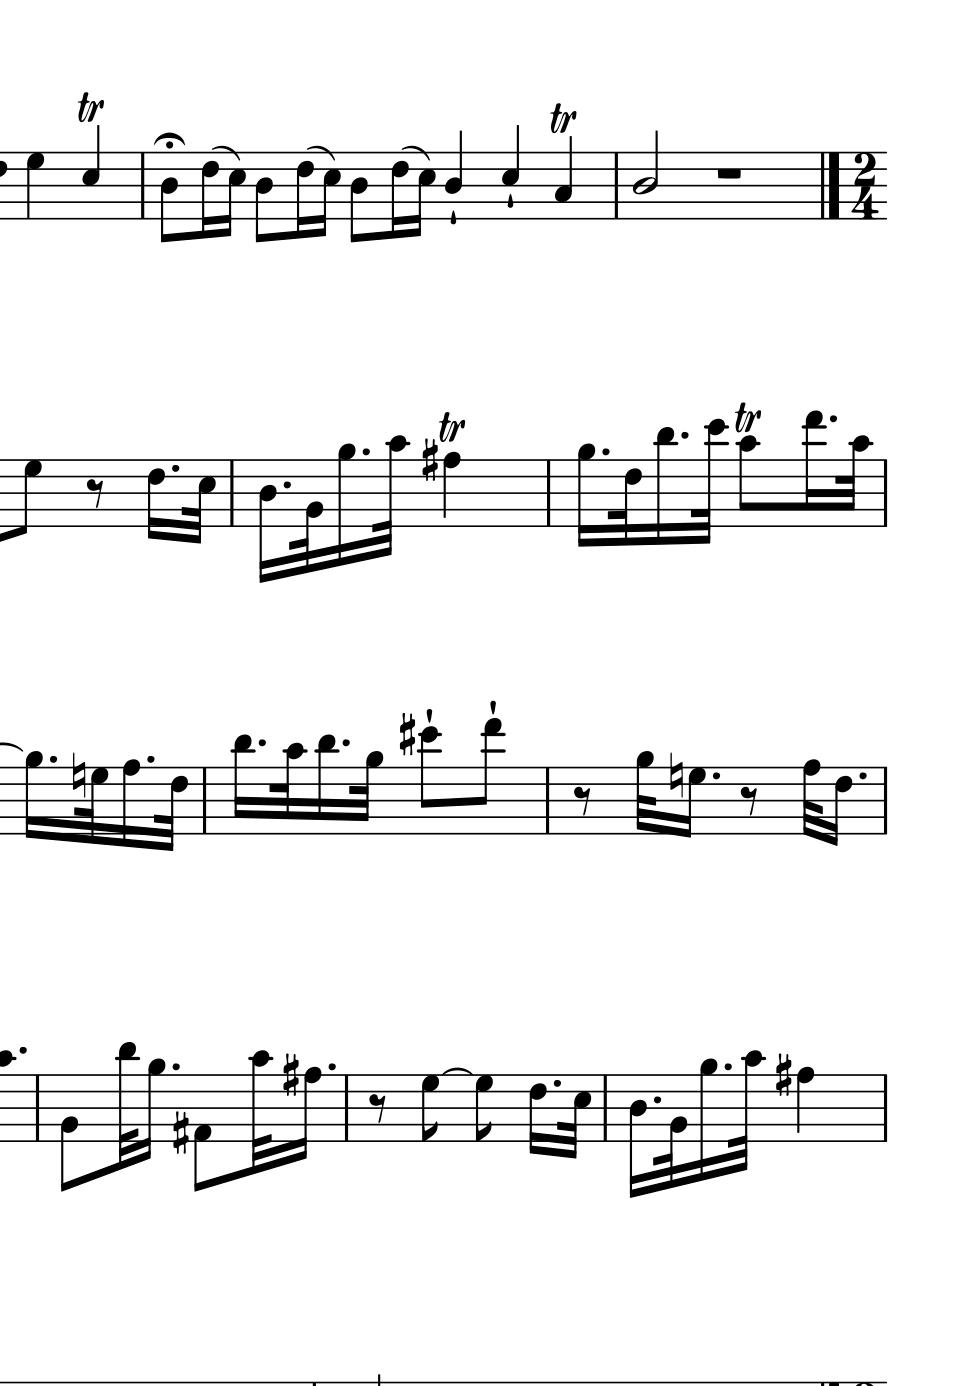16_11: (653, 424, 676, 546), (229, 732, 253, 836), (313, 733, 336, 836)
16_13: (803, 408, 827, 530)
16_4: (626, 1072, 647, 1200), (257, 457, 278, 584)
16_5: (220, 151, 246, 238), (315, 151, 342, 238), (412, 150, 437, 238)
16_6: (828, 766, 853, 847), (389, 150, 409, 239), (145, 458, 167, 542), (294, 151, 314, 239), (199, 150, 218, 240), (527, 1073, 547, 1156)
16_7: (678, 764, 707, 841)
16_8: (292, 1067, 322, 1163), (119, 759, 141, 850)
16_9: (137, 1057, 167, 1166), (335, 440, 358, 569), (697, 1058, 719, 1180), (575, 441, 597, 549), (24, 749, 43, 840)
2: (851, 151, 880, 186)
2_4: (631, 128, 658, 220)
32_10: (729, 1047, 765, 1174), (373, 432, 408, 559), (270, 740, 305, 836), (248, 1049, 274, 1174), (841, 433, 873, 530)
32_11: (116, 1040, 138, 1172)
32_12: (692, 417, 728, 545)
32_2: (290, 457, 323, 577), (657, 1073, 687, 1191)
32_5: (182, 459, 218, 545), (559, 1073, 593, 1161)
32_6: (608, 458, 642, 547), (158, 764, 189, 853)
32_7: (77, 766, 108, 847)
32_8: (802, 756, 824, 840)
32_9: (352, 748, 383, 839), (633, 751, 655, 834)
4: (851, 186, 881, 220)
4_3: (552, 135, 573, 220)
4_4: (443, 131, 463, 225)
4_5: (500, 124, 520, 218)
4_7: (24, 150, 46, 221)
4_8: (441, 450, 461, 528), (794, 1066, 813, 1143)
8_1: (191, 1073, 212, 1192)
8_10: (735, 435, 758, 530)
8_12: (417, 724, 443, 835)
8_13: (473, 717, 505, 835)
8_2: (58, 1072, 78, 1194)
8_4: (157, 150, 180, 246), (347, 150, 369, 244), (253, 150, 274, 244)
8_5: (80, 123, 101, 222)
8_7: (12, 457, 42, 537), (419, 1074, 440, 1144), (473, 1074, 494, 1144)
Fermata_above: (151, 130, 187, 150)
Final_barline: (817, 151, 842, 220)
Natural: (69, 750, 86, 801), (667, 750, 684, 800)
Rests1: (711, 163, 746, 185)
Rests8: (84, 477, 108, 510), (571, 784, 593, 819), (367, 1091, 389, 1125), (738, 784, 760, 817)
Sharp: (397, 710, 417, 758), (170, 1109, 189, 1157), (773, 1051, 792, 1099), (280, 1051, 299, 1098), (421, 437, 438, 484)
Single_barline: (875, 460, 893, 526), (223, 460, 240, 526), (540, 460, 557, 526), (195, 768, 212, 834), (596, 1075, 613, 1141), (876, 1075, 893, 1141), (877, 767, 893, 834), (134, 154, 150, 220), (539, 768, 555, 834), (29, 1075, 45, 1141), (609, 153, 624, 220), (339, 1075, 353, 1141)
Slur: (211, 144, 241, 162), (307, 144, 336, 162), (400, 144, 431, 161), (441, 1066, 474, 1077)
Staccatissimo: (423, 706, 435, 725), (487, 699, 497, 715)
TimeSig: (848, 152, 880, 220)
Trill: (546, 99, 577, 136), (74, 89, 104, 125), (730, 398, 762, 431), (437, 409, 466, 443)
dot: (255, 736, 269, 750), (168, 461, 181, 475), (358, 446, 372, 459), (598, 446, 612, 459), (16, 1043, 29, 1057), (169, 1062, 182, 1074), (826, 413, 839, 425), (678, 429, 690, 442), (280, 478, 293, 491), (550, 1076, 563, 1089), (46, 754, 59, 766), (856, 769, 868, 783), (339, 737, 351, 750), (143, 754, 156, 766), (721, 1062, 733, 1073), (325, 1062, 337, 1072), (651, 1093, 662, 1106), (710, 770, 720, 782)
